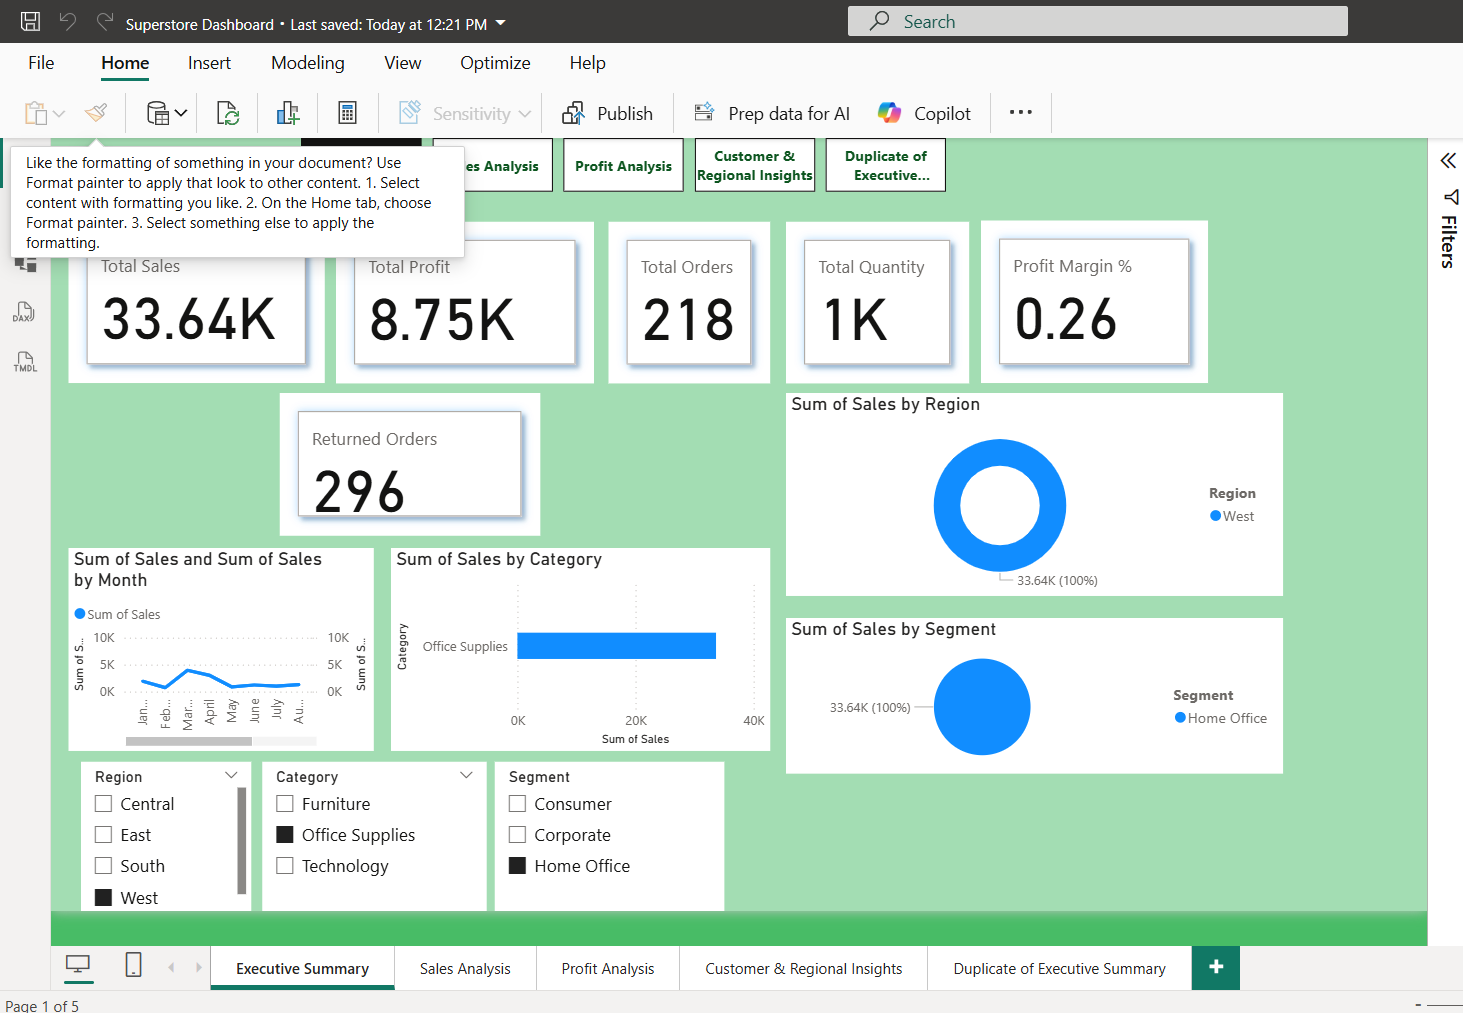

Layout of this report page (visuals, bound fields, positions):
{"tool":"powerbi","page":{"name":"Executive Summary","canvas":[1280,720],"ordinal":0},"visuals":[{"type":"cardVisual","fields":{"Data":["Orders.Total Sales"]},"box":[16.2,76.2,238.8,151.2],"z":0},{"type":"cardVisual","fields":{"Data":["Orders.Total Profit"]},"box":[265,77.5,240,150],"z":1000},{"type":"cardVisual","fields":{"Data":["Orders.Total Quantity"]},"box":[683.8,77.5,170,150],"z":2000},{"type":"cardVisual","fields":{"Data":["Orders.Total Orders"]},"box":[518.8,77.5,150,150],"z":3000},{"type":"pageNavigator","box":[232.5,0,600,50],"z":4000},{"type":"cardVisual","fields":{"Data":["Orders.Profit Margin %"]},"box":[865,76.2,211.2,151.2],"z":5000},{"type":"cardVisual","fields":{"Data":["Orders.Returned Orders"]},"box":[212.5,237.5,242.5,132.5],"z":6000},{"type":"lineChart","fields":{"Y2":["Sum(Orders.Sales)"],"Y":["Sum(Orders.Sales)"],"Category":["Orders.Order Date.Variation.Date Hierarchy.Month"]},"box":[16.2,381.2,283.8,188.8],"z":7000},{"type":"clusteredBarChart","fields":{"Category":["Orders.Category"],"Y":["Sum(Orders.Sales)"]},"box":[316.2,381.2,352.5,188.8],"z":8000},{"type":"donutChart","fields":{"Category":["Orders.Region"],"Y":["Sum(Orders.Sales)"]},"box":[683.8,237.5,462.5,188.8],"z":9000},{"type":"pieChart","fields":{"Category":["Orders.Segment"],"Y":["Sum(Orders.Sales)"]},"box":[683.8,446.2,462.5,145],"z":10000},{"type":"slicer","fields":{"Values":["Orders.Region"]},"box":[27.5,580,158.8,140],"z":11000},{"type":"slicer","fields":{"Values":["Orders.Category"]},"box":[196.2,580,208.8,140],"z":12000},{"type":"slicer","fields":{"Values":["Orders.Segment"]},"box":[412.5,580,213.8,140],"z":13000}]}

Visuals, with their boxes on the page's 1280x720 design canvas (x1, y1, x2, y2). These are canvas units, not pixel positions in the 1463x1013 screenshot, which may show the page scaled, cropped or inside an application window:
cardVisual - Orders.Total Sales: select_region(16, 76, 255, 227)
cardVisual - Orders.Total Profit: select_region(265, 78, 505, 228)
cardVisual - Orders.Total Quantity: select_region(684, 78, 854, 228)
cardVisual - Orders.Total Orders: select_region(519, 78, 669, 228)
pageNavigator: select_region(232, 0, 832, 50)
cardVisual - Orders.Profit Margin %: select_region(865, 76, 1076, 227)
cardVisual - Orders.Returned Orders: select_region(212, 238, 455, 370)
lineChart - Sum(Orders.Sales) x Sum(Orders.Sales): select_region(16, 381, 300, 570)
clusteredBarChart - Orders.Category x Sum(Orders.Sales): select_region(316, 381, 669, 570)
donutChart - Orders.Region x Sum(Orders.Sales): select_region(684, 238, 1146, 426)
pieChart - Orders.Segment x Sum(Orders.Sales): select_region(684, 446, 1146, 591)
slicer - Orders.Region: select_region(28, 580, 186, 720)
slicer - Orders.Category: select_region(196, 580, 405, 720)
slicer - Orders.Segment: select_region(412, 580, 626, 720)
